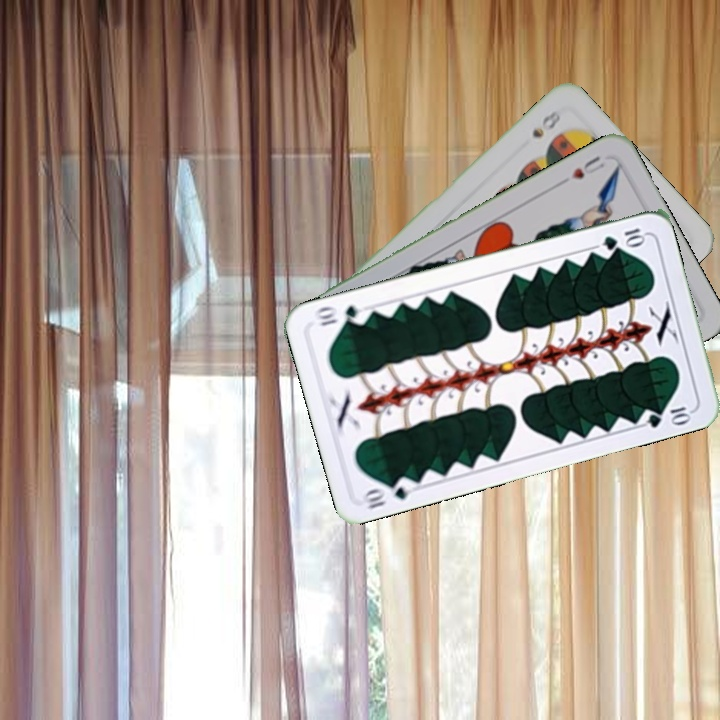G10: (358, 473, 418, 512), (598, 224, 648, 253)
HU: (557, 152, 608, 187)
S8: (527, 106, 564, 141)
